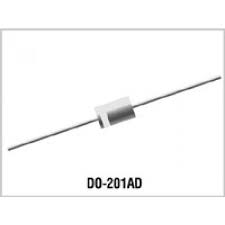diode: (78, 90, 161, 153)
